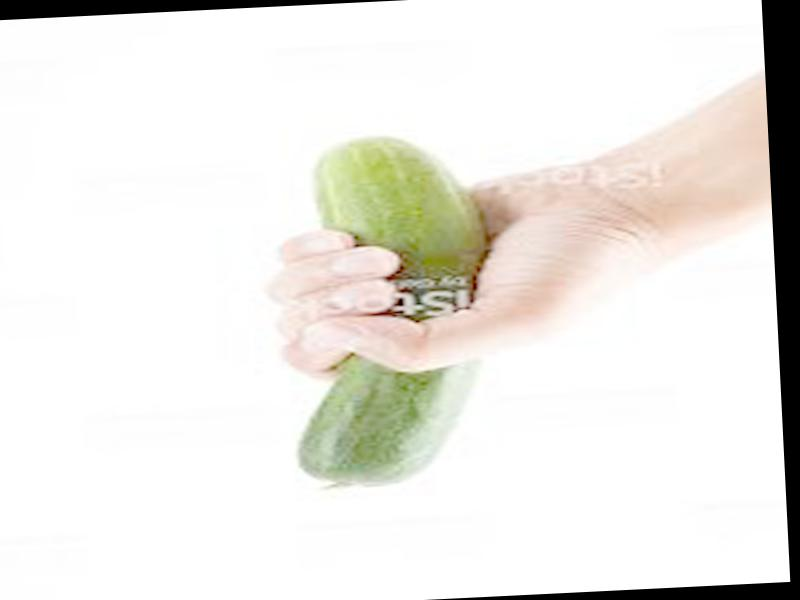Cucumber: (277, 133, 500, 490)
